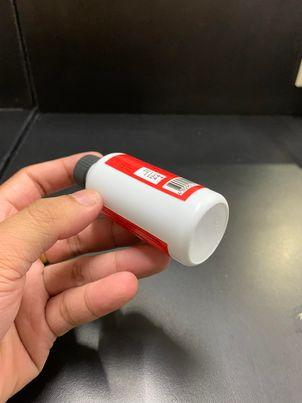-Bottle-: (72, 152, 231, 268)
